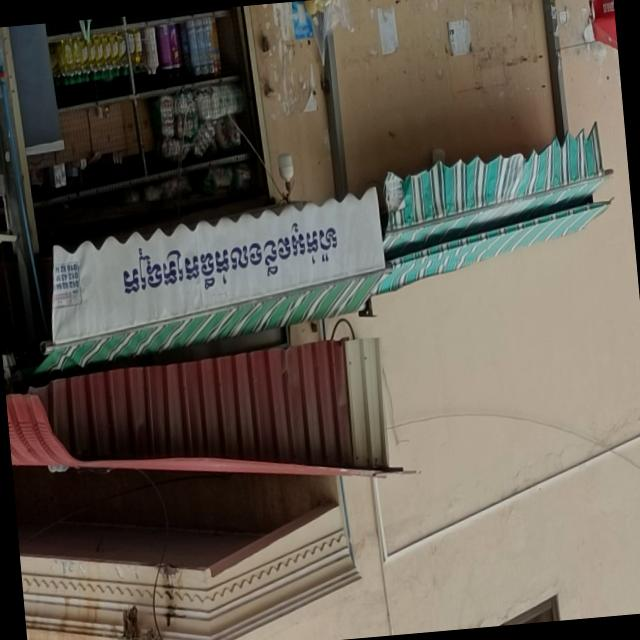Yolov11kh: (115, 212, 345, 309)
